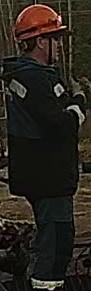gloves: (69, 74, 91, 106)
helmet: (13, 3, 67, 42)
vest: (0, 56, 79, 200)
